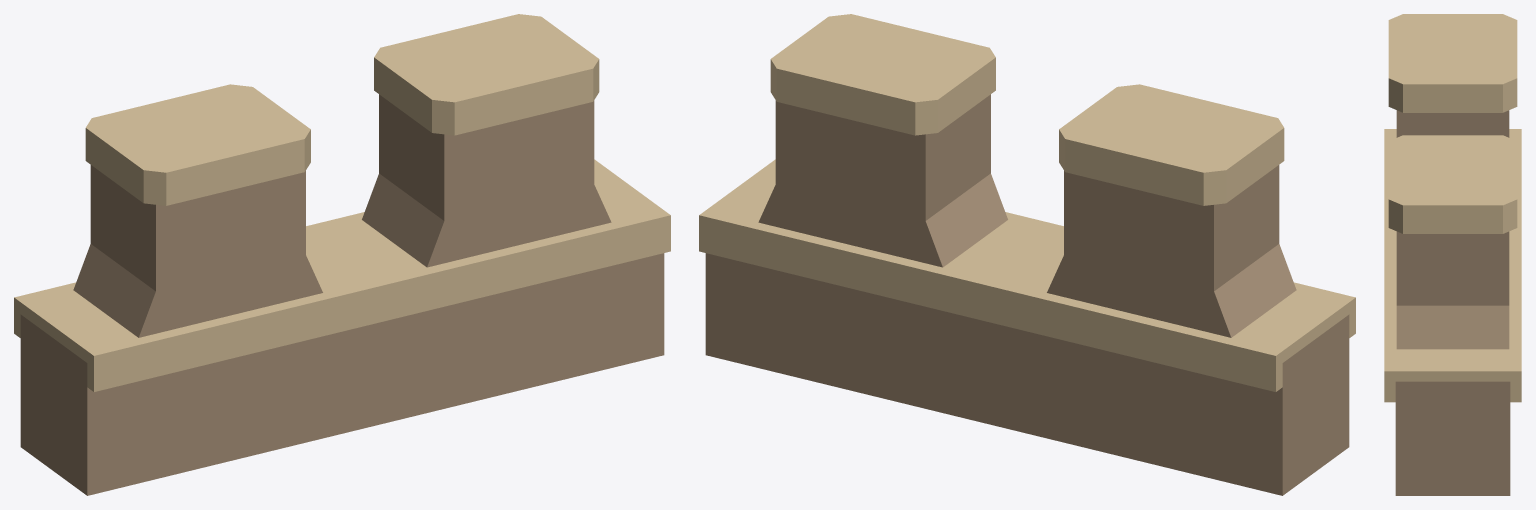
Rendered from crenellated_crest.glb.
3 renders of one model, left to right at view 1: azimuth 30°, elevation 25°; view 2: azimuth 150°, elevation 25°; view 3: azimuth 270°, elevation 25°, orthographic. The views are drawn at different scales.
Visible parts, largest first — view 1: Crenellated crest; view 2: Crenellated crest; view 3: Crenellated crest.
Boxes of the visible parts, bbox=[...] form: Crenellated crest: bbox=[14, 14, 670, 495]; Crenellated crest: bbox=[699, 14, 1355, 495]; Crenellated crest: bbox=[1384, 14, 1521, 495].
Size of the model in its own units: 1 by 0.51 by 0.24.
